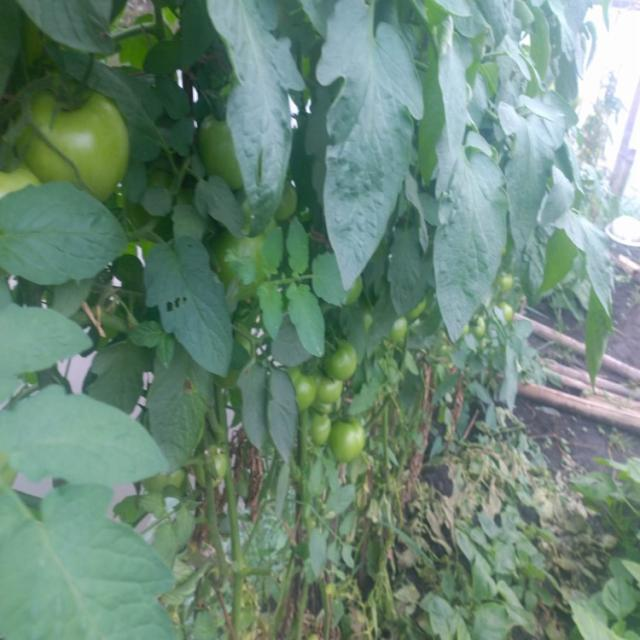tomato: (19, 79, 134, 200), (199, 113, 251, 192), (219, 220, 276, 286), (1, 156, 45, 198), (202, 448, 244, 483), (150, 465, 196, 496), (291, 368, 319, 409), (341, 421, 367, 464), (316, 376, 353, 406), (330, 349, 358, 382), (312, 411, 331, 443), (392, 314, 408, 348), (497, 301, 516, 322), (412, 301, 429, 322), (495, 275, 514, 289), (473, 317, 486, 337)
